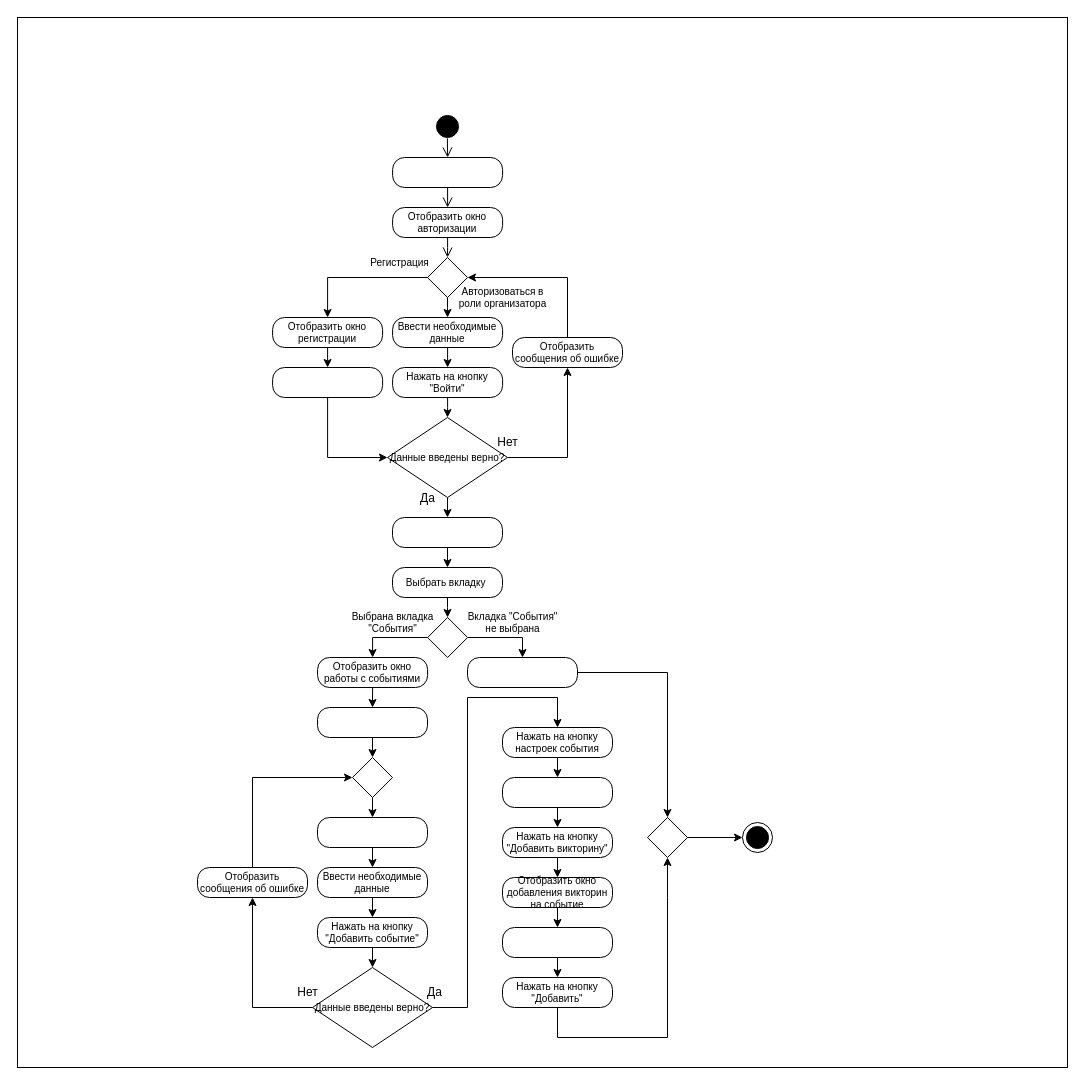
Some shapes in this 1085 by 1085 pixel diagram are drawn without their labels. The centre of each missing label's shape, as x and y in pixels:
Выбрат необходимые викторины: point (557, 942)
Запустить программу: point (447, 172)
Нажать кнопку "Новое событие": point (372, 722)
Осуществить работу в окне регистрации: point (327, 382)
Осуществить работу с иными действиями: point (522, 672)
Отобразить главную панель организатора: point (447, 532)
Отобразить окно добавления события: point (372, 832)
Отобразить окно настроек события: point (557, 792)
